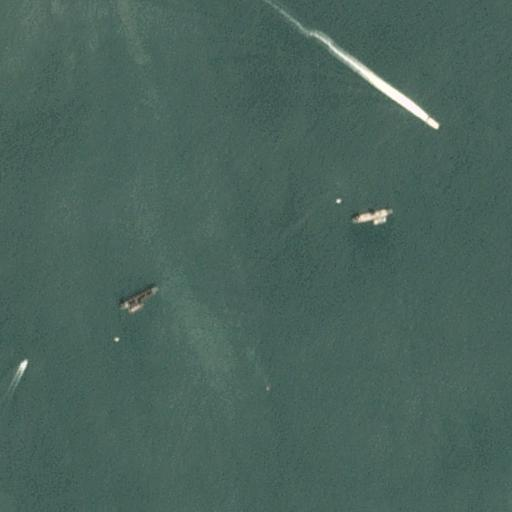ship: (118, 284, 160, 312), (351, 205, 395, 225), (426, 118, 441, 130), (20, 357, 29, 370)
